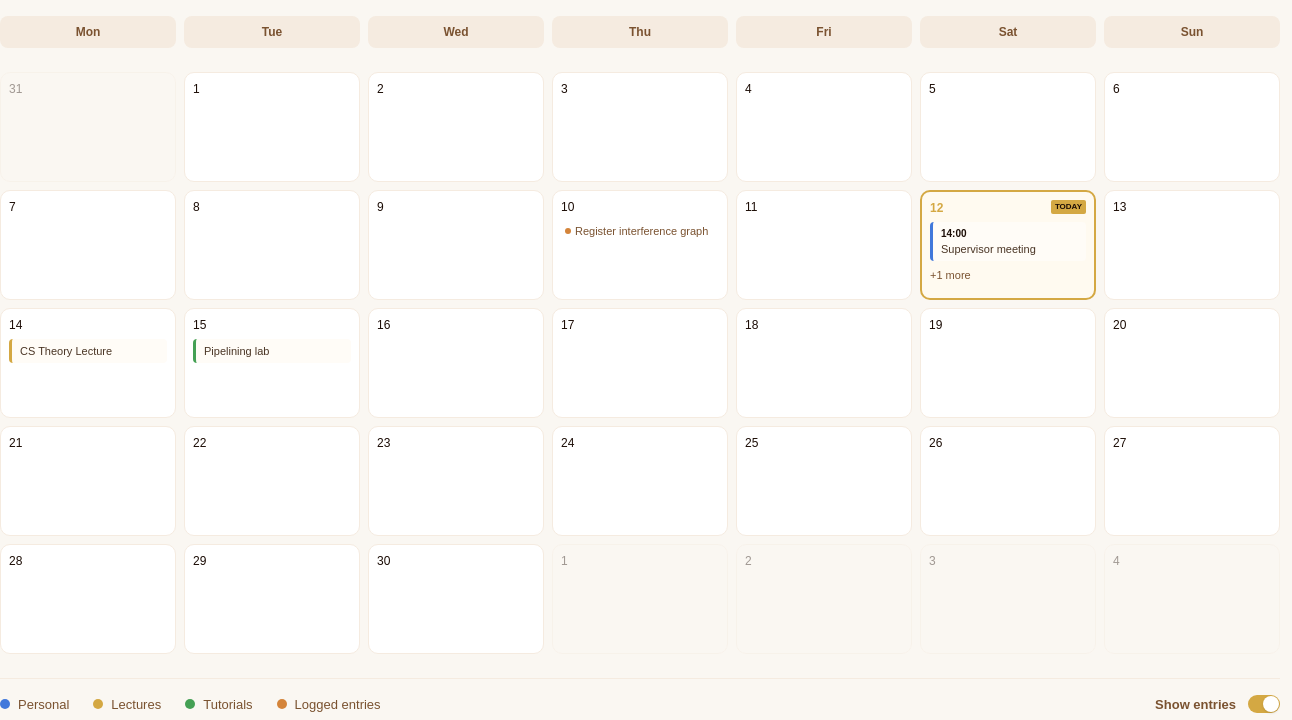
Test case: CalendarPage › links a logged entry to its page, and hides entries when toggled off
(page scrolled)
What coordinates should you click on to do the following:
click the switch named "Show entries"
I would click on:
 (1264, 704)
Its box is [1248,695,1280,713].
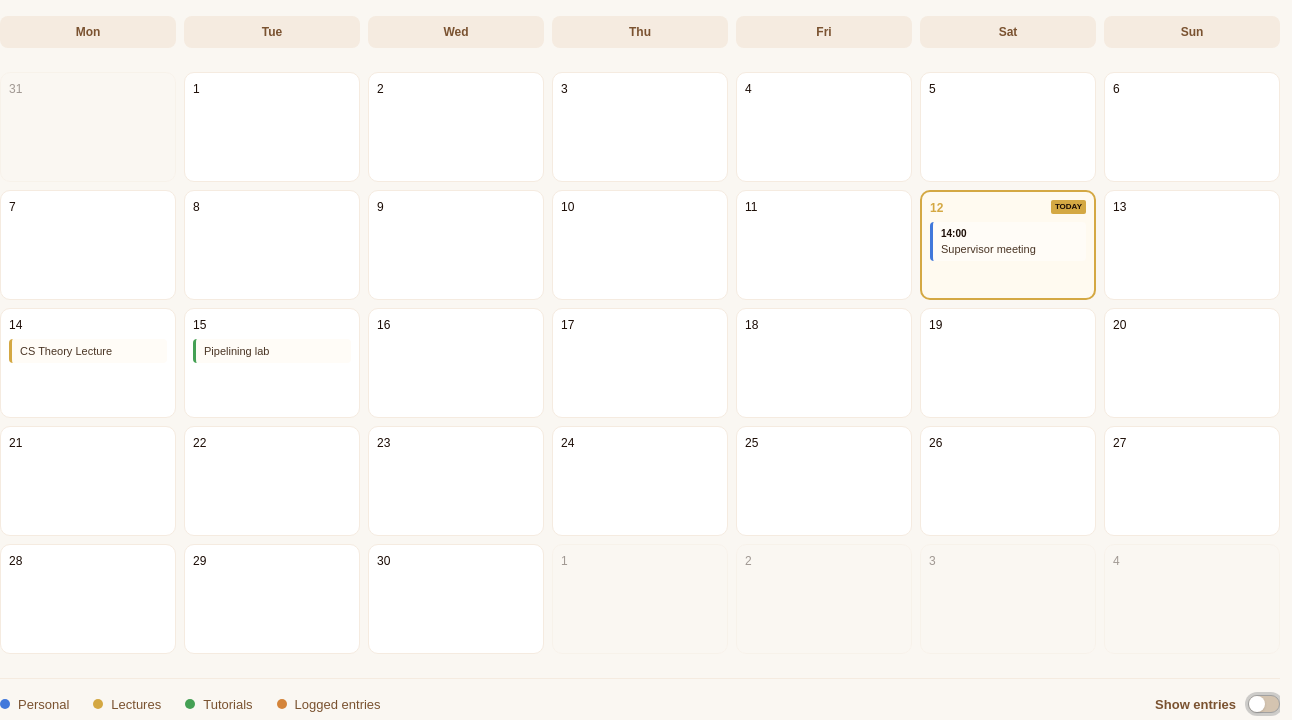
Now the link "Register interference graph" is gone
